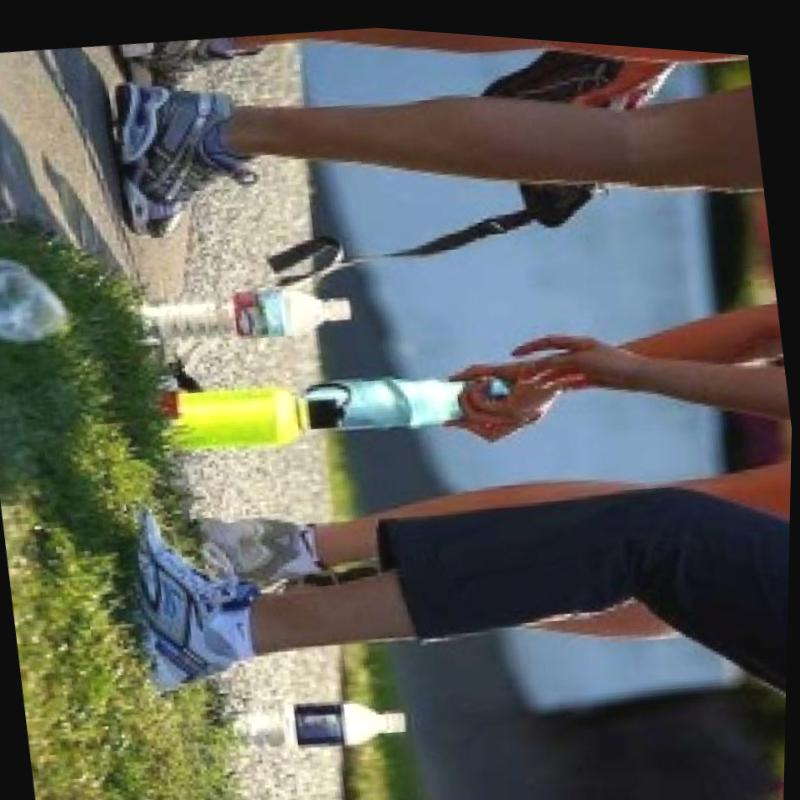botella: (138, 262, 355, 358), (219, 678, 410, 762), (0, 246, 64, 350)
